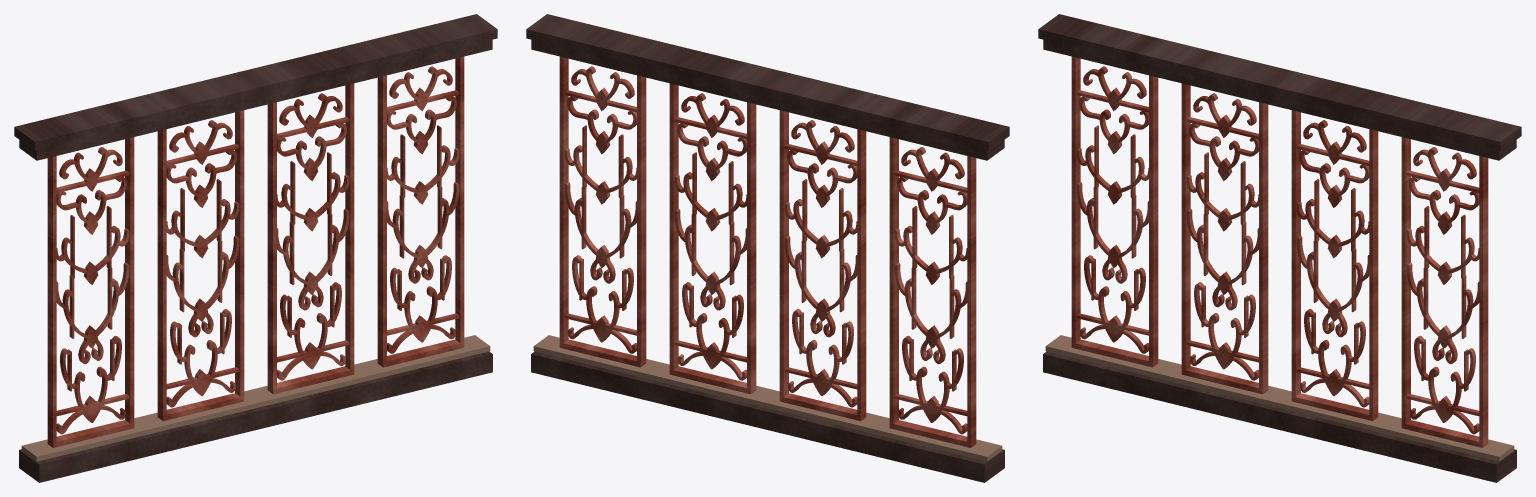
Rendered from zhang-residence-pierced-gallery-rail-near.glb.
3 views of the same model, side by side, from view 1: azimuth 30°, elevation 25°; view 2: azimuth 150°, elevation 25°; view 3: azimuth 330°, elevation 25° (orthographic).
Visible parts, largest first — view 1: 三林塘张氏宅二层廊栏的连续红色透花栏板; view 2: 三林塘张氏宅二层廊栏的连续红色透花栏板; view 3: 三林塘张氏宅二层廊栏的连续红色透花栏板.
Part boxes in pixels (x1=…): 三林塘张氏宅二层廊栏的连续红色透花栏板: x1=14, y1=14, x2=497, y2=482; 三林塘张氏宅二层廊栏的连续红色透花栏板: x1=526, y1=14, x2=1009, y2=482; 三林塘张氏宅二层廊栏的连续红色透花栏板: x1=1038, y1=14, x2=1521, y2=482.
Size of the model in its own units: 2.06 by 1.46 by 0.161.
4 materials, 3 textured.
